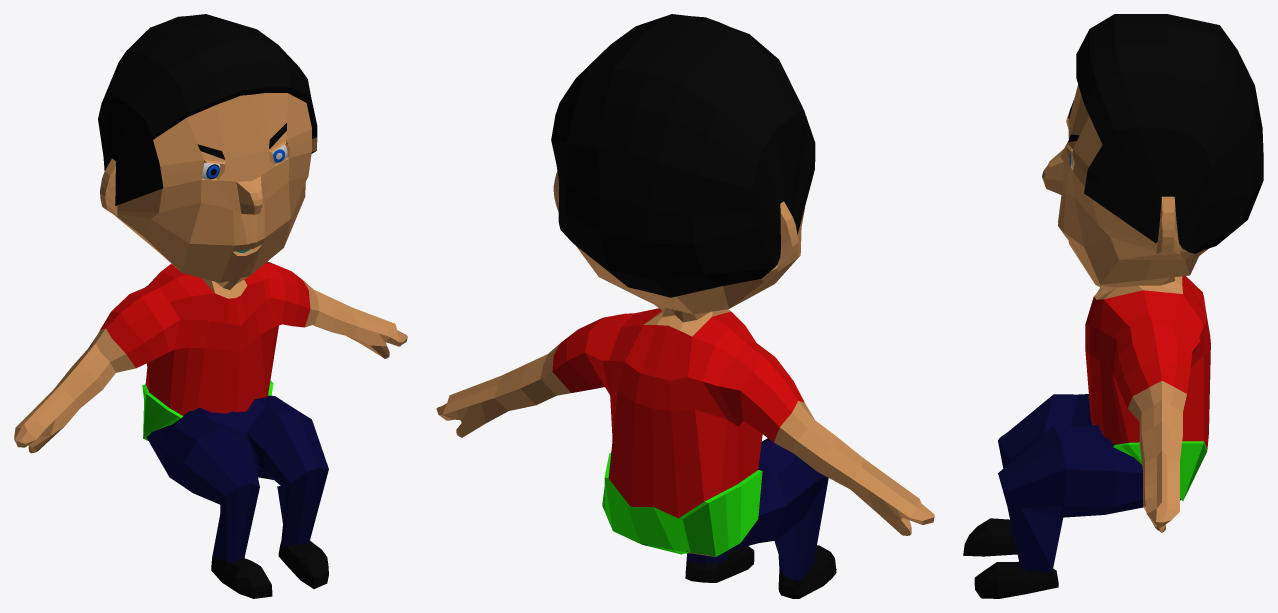
The model's file is Low_Poly_Guy.obj.
3 renders of one model, left to right at view 1: azimuth 30°, elevation 25°; view 2: azimuth 150°, elevation 25°; view 3: azimuth 270°, elevation 25°, orthographic. The views are drawn at different scales.
Parts seen in each view (by area): view 1: Low_Poly_Guy_Cube; view 2: Low_Poly_Guy_Cube; view 3: Low_Poly_Guy_Cube.
Boxes of the visible parts, x1,y1,x2,y2 form: Low_Poly_Guy_Cube: (14,14,407,598); Low_Poly_Guy_Cube: (436,14,934,598); Low_Poly_Guy_Cube: (963,14,1263,598).
Bounding box in the file's own units: 3.36 × 4.04 × 1.99.
